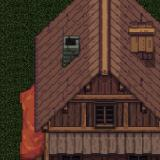Obstacle: (8, 34, 160, 160)
